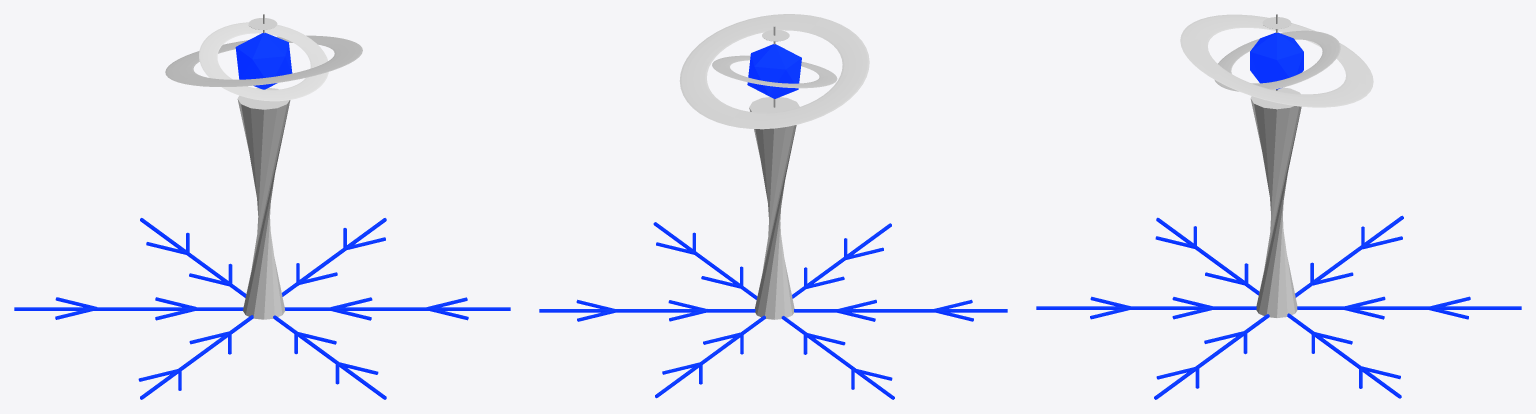
File: Antarctica.fbx
3 renders of one model, left to right at view 1: azimuth 30°, elevation 25°; view 2: azimuth 150°, elevation 25°; view 3: azimuth 270°, elevation 25°, orthographic. The views are drawn at different scales.
Parts seen in each view (by area): view 1: Cylinder, Torus, Torus.001, Icosphere, Cylinder.003, Cylinder.002, Cylinder.004; view 2: Torus.001, Cylinder, Icosphere, Cylinder.004, Torus, Cylinder.003, Cylinder.002; view 3: Cylinder, Torus.001, Icosphere, Torus, Cylinder.002, Cylinder.003, Cylinder.004.
Part boxes in pixels (x1,y1,x2,y2): Cylinder: [237, 88, 290, 319]; Torus: [199, 22, 328, 101]; Torus.001: [165, 35, 362, 86]; Icosphere: [235, 32, 292, 89]; Cylinder.003: [14, 307, 510, 310]; Cylinder.002: [140, 218, 386, 399]; Cylinder.004: [140, 218, 386, 399]; Torus.001: [679, 14, 869, 129]; Cylinder: [749, 97, 799, 319]; Icosphere: [747, 44, 801, 98]; Cylinder.004: [539, 309, 1007, 312]; Torus: [712, 55, 837, 88]; Cylinder.003: [653, 222, 894, 399]; Cylinder.002: [655, 223, 891, 398]; Cylinder: [1250, 87, 1301, 317]; Torus.001: [1180, 14, 1373, 107]; Icosphere: [1250, 32, 1303, 89]; Torus: [1214, 30, 1340, 91]; Cylinder.002: [1036, 306, 1521, 309]; Cylinder.003: [1154, 215, 1403, 399]; Cylinder.004: [1156, 217, 1401, 398].
Bounding box in the file's own units: 1349 × 1025 × 1525.
